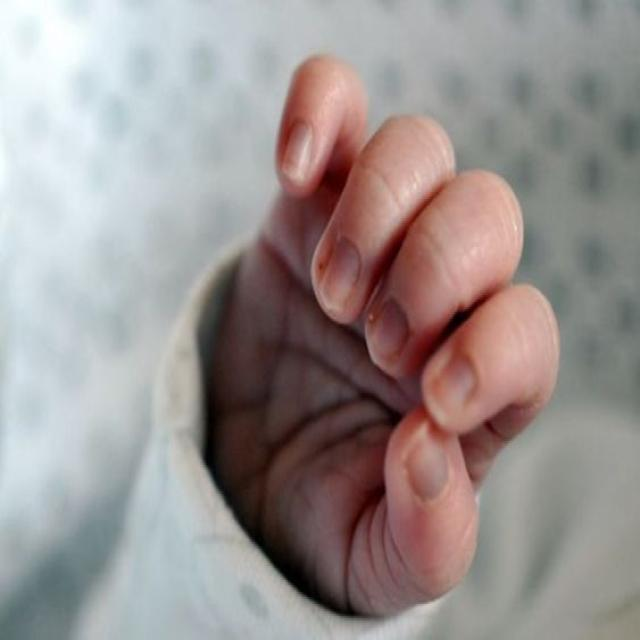Fingernail: (402, 420, 450, 501), (318, 241, 360, 314), (431, 357, 477, 419), (372, 299, 408, 359), (282, 123, 315, 182)
